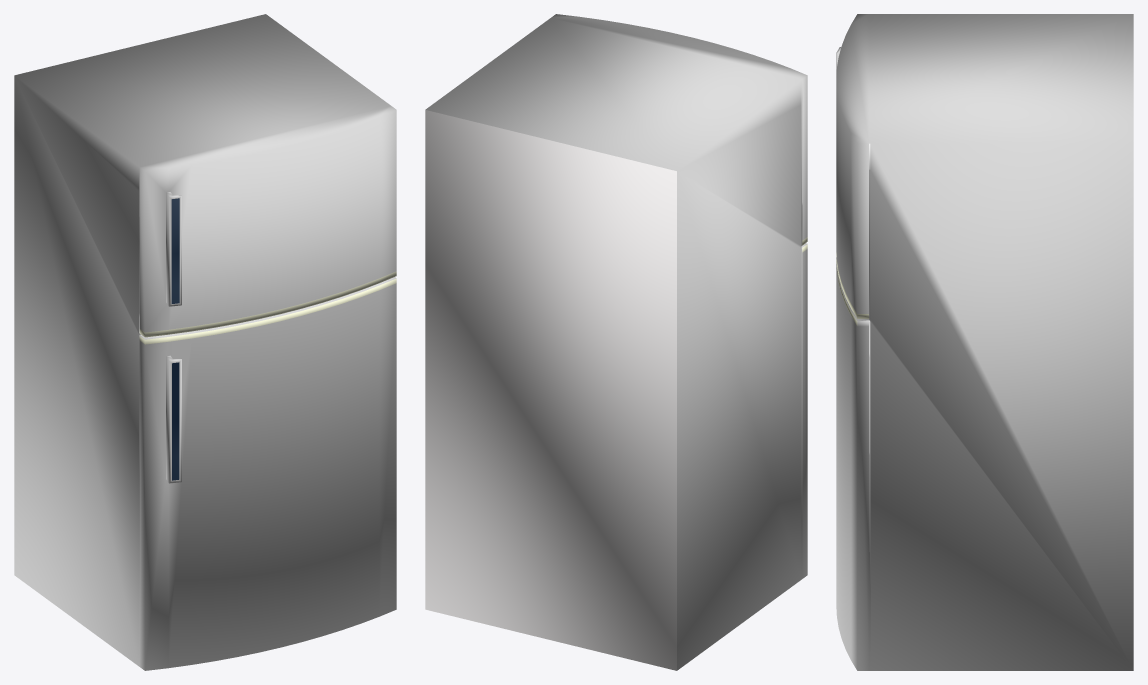
Rendered from refrigerator.glb.
3 renders of one model, left to right at view 1: azimuth 30°, elevation 25°; view 2: azimuth 150°, elevation 25°; view 3: azimuth 270°, elevation 25°, orthographic. The views are drawn at different scales.
Parts seen in each view (by area): view 1: Material2 (×3); view 2: Material2 (×2); view 3: Material2.
Boxes of the visible parts, x1,y1,x2,y2 form: Material2 (×3): (14, 14, 396, 670); Material2 (×2): (425, 14, 807, 670); Material2: (836, 14, 1133, 670).
Bounding box in the file's own units: 0.9795 × 1.86 × 0.9495.
5 materials, 1 textured.
